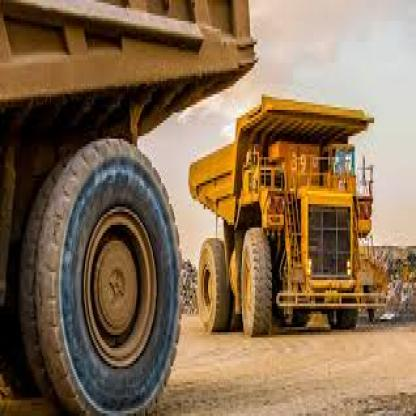dump_truck: (0, 0, 267, 413), (188, 83, 384, 342)
